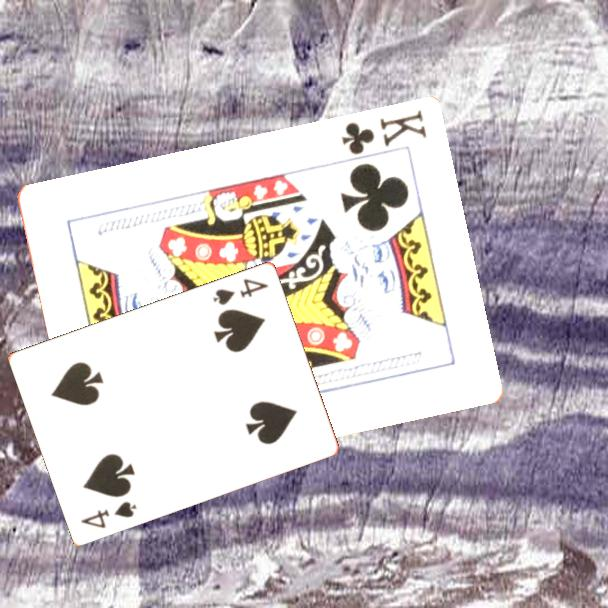c13: (337, 107, 429, 159)
s04: (77, 497, 140, 531), (209, 275, 271, 308)
